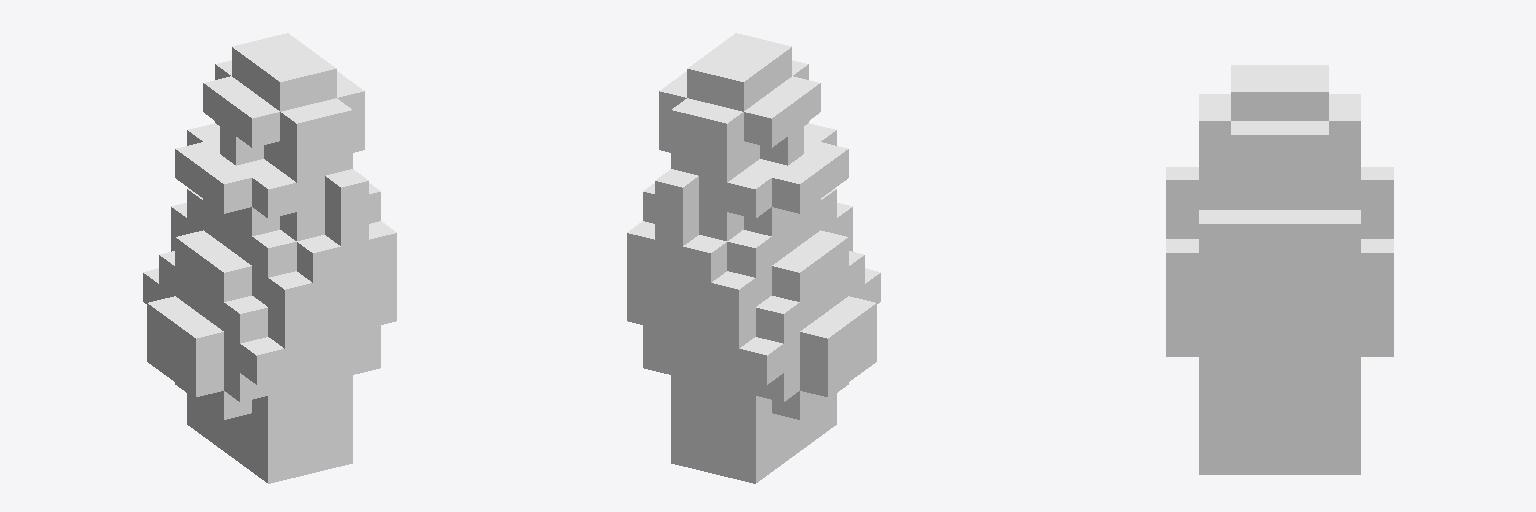
The model's file is orc-0-body.obj.
3 views of the same model, side by side, from view 1: azimuth 30°, elevation 25°; view 2: azimuth 150°, elevation 25°; view 3: azimuth 270°, elevation 25° (orthographic).
Parts seen in each view (by area): view 1: body; view 2: body; view 3: body.
Boxes of the visible parts, box(x1,y1,x2,y2) form: body: box(143, 33, 396, 483); body: box(627, 33, 880, 483); body: box(1166, 65, 1393, 474).
Size of the model in its own units: 0.6 by 1.3 by 0.7.